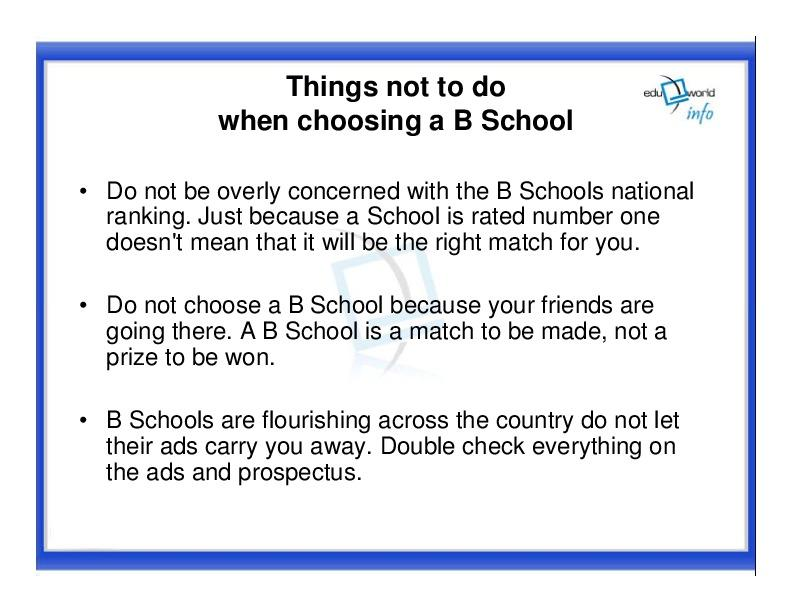paragraph: (69, 167, 723, 504)
title: (214, 66, 588, 143)
